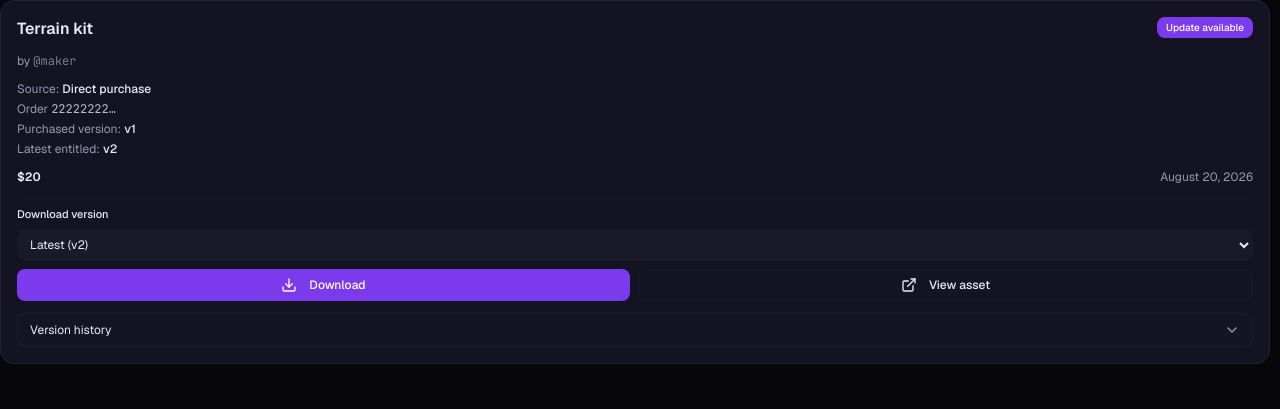
Test: LibraryPurchaseCard › shows a stable failure state when version history request fails
Click the button "Version history" at (71, 330), box [17, 312, 1253, 346]
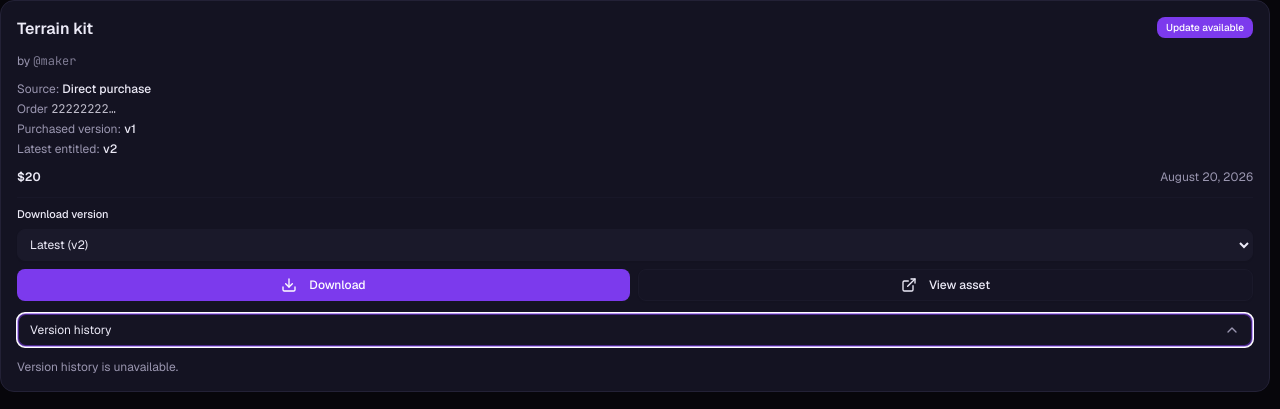
Now the text "Version history is unavailable." is shown, box [17, 358, 178, 374]
